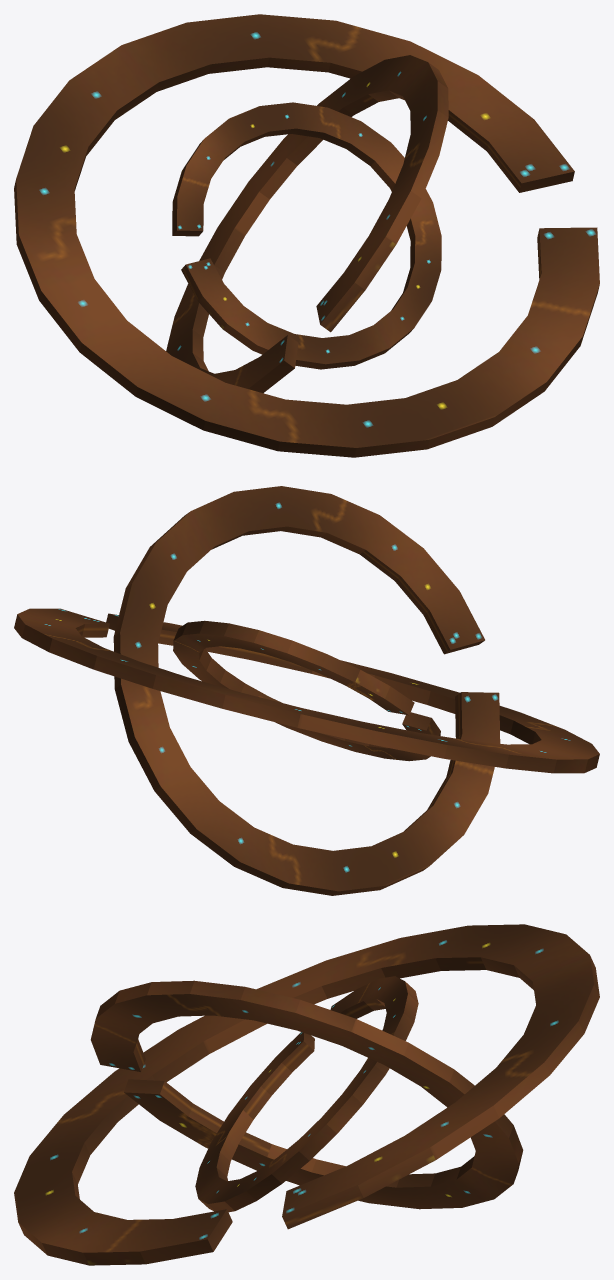
Rendered from Static_Gyro.glb.
3 views of the same model, one above another, from view 1: azimuth 30°, elevation 25°; view 2: azimuth 150°, elevation 25°; view 3: azimuth 270°, elevation 25° (orthographic). The views are drawn at different scales.
Parts seen in each view (by area): view 1: Cylinder.002, Cylinder.001, Cylinder; view 2: Cylinder.001, Cylinder.002, Cylinder; view 3: Cylinder.002, Cylinder.001, Cylinder.
Part boxes in pixels (left/top/right/bottom): Cylinder.002: left=14, top=14, right=599, bottom=457; Cylinder.001: left=166, top=55, right=448, bottom=393; Cylinder: left=172, top=102, right=441, bottom=369; Cylinder.001: left=113, top=486, right=500, bottom=895; Cylinder.002: left=14, top=608, right=599, bottom=773; Cylinder: left=173, top=620, right=440, bottom=761; Cylinder.002: left=14, top=924, right=599, bottom=1265; Cylinder.001: left=90, top=980, right=523, bottom=1209; Cylinder: left=195, top=976, right=418, bottom=1212.
Size of the model in its own units: 41.93 by 23.62 by 38.98.
Materials: 3 (3 with a texture image).
